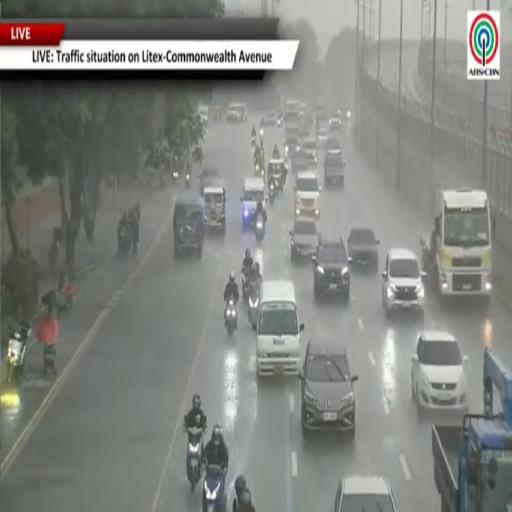car: (299, 339, 357, 438), (252, 281, 304, 375), (412, 331, 468, 411), (382, 249, 426, 316), (312, 238, 351, 300), (333, 476, 396, 511), (173, 196, 204, 258), (348, 229, 379, 270), (290, 217, 318, 262), (294, 171, 321, 217), (203, 180, 226, 232), (241, 178, 264, 229), (324, 152, 345, 186), (200, 167, 221, 196), (301, 137, 317, 163), (291, 149, 308, 173), (285, 133, 299, 158), (226, 104, 245, 122), (325, 134, 342, 153), (329, 112, 342, 132), (317, 127, 328, 148), (198, 105, 209, 126), (263, 111, 277, 126)
motorcycle: (6, 323, 31, 385), (185, 427, 203, 492), (203, 464, 226, 511), (48, 227, 62, 270), (57, 283, 74, 315), (117, 226, 133, 258), (248, 283, 260, 325), (225, 298, 237, 337), (242, 270, 251, 303), (255, 217, 264, 243), (269, 180, 275, 204), (160, 173, 166, 189), (185, 172, 190, 188), (259, 127, 264, 142), (173, 170, 179, 182), (252, 135, 255, 149)
truck: (432, 349, 511, 511), (420, 189, 494, 299)
